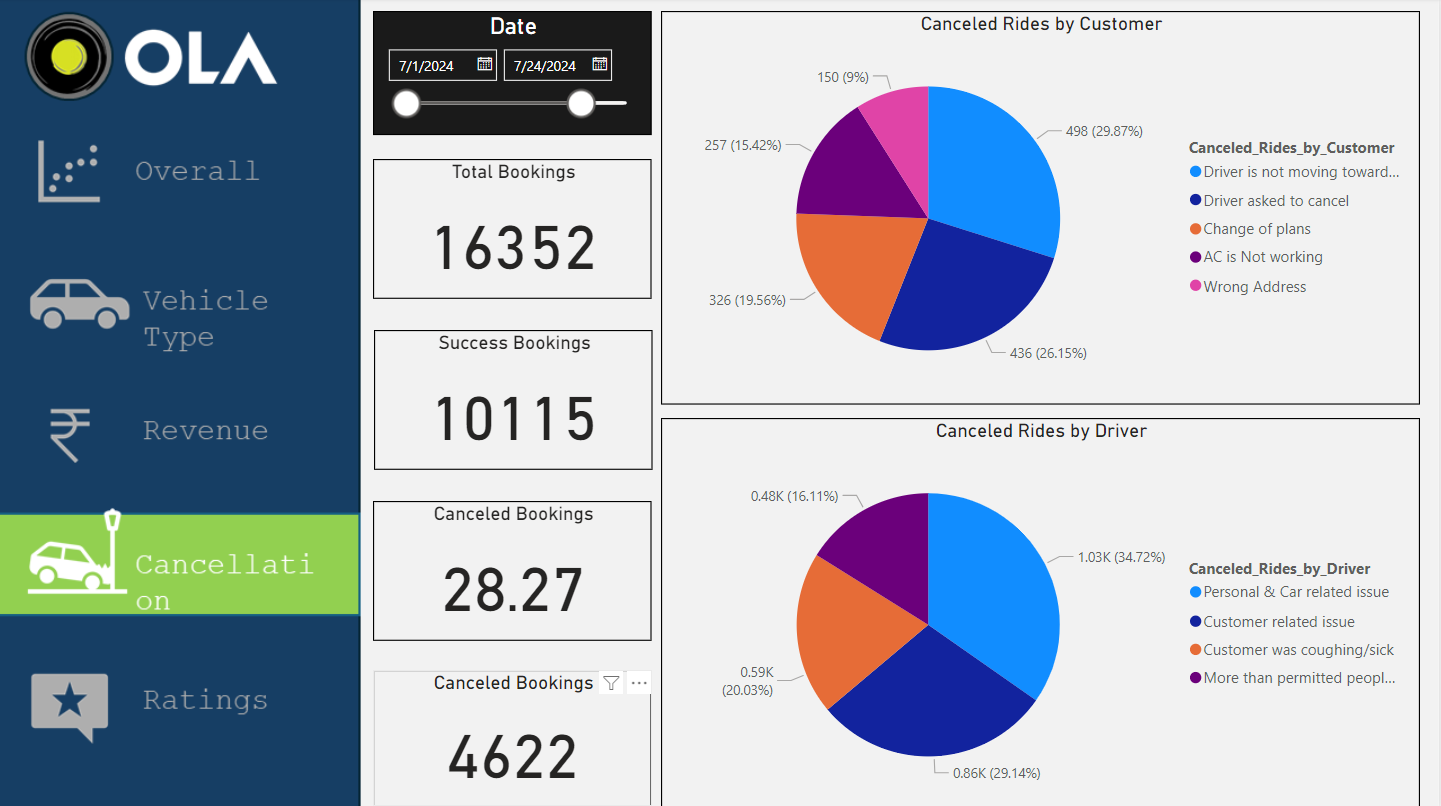

Layout of this report page (visuals, bound fields, positions):
{"tool":"powerbi","page":{"name":"CANCELLATION","canvas":[1280,720],"ordinal":4},"visuals":[{"type":"actionButton","box":[0,231.4,325.4,90.4],"z":0},{"type":"actionButton","box":[0,336.1,325.4,91.3],"z":1000},{"type":"actionButton","box":[0,447.8,325.4,107.3],"z":2000},{"type":"actionButton","box":[0,576.4,325.4,92.2],"z":3000},{"type":"actionButton","box":[0,110.8,325.4,93.1],"z":4000},{"type":"pieChart","title":"Canceled Rides by Customer","fields":{"Y":["CountNonNull(Bookings.Canceled_Rides_by_Customer)"],"Category":["Bookings.Canceled_Rides_by_Customer"]},"box":[590.6,11.3,672.9,348.8],"z":5000},{"type":"pieChart","title":"Canceled Rides by Driver","fields":{"Category":["Bookings.Canceled_Rides_by_Driver"],"Y":["CountNonNull(Bookings.Canceled_Rides_by_Driver)"]},"box":[590.6,372.5,672.9,347.8],"z":6000},{"type":"slicer","title":"Date","fields":{"Values":["Bookings.Date"]},"box":[335.4,11.3,246.9,110.1],"z":7000},{"type":"card","title":"Total Bookings","fields":{"Values":["Count(Bookings.Booking_ID)"]},"box":[334.9,142.9,247.5,123.7],"z":8000},{"type":"card","title":"Success Bookings","fields":{"Values":["Count(Bookings.Booking_ID)"]},"box":[336,294.4,247.5,123.7],"z":9000},{"type":"card","title":"Canceled Bookings","fields":{"Values":["Count(Bookings.Booking_ID)"]},"box":[334.9,596.3,247.5,120.5],"z":10000},{"type":"card","title":"Canceled Bookings","fields":{"Values":["Bookings.CANCELLED BOOKING PERCENTAGE"]},"box":[334.9,445.9,247.5,123.7],"z":11000}]}

Visuals, with their boxes on the page's 1280x720 design canvas (x1, y1, x2, y2). These are canvas units, not pixel positions in the 1441x806 screenshot, which may show the page scaled, cropped or inside an application window:
actionButton: crop(0, 231, 325, 322)
actionButton: crop(0, 336, 325, 427)
actionButton: crop(0, 448, 325, 555)
actionButton: crop(0, 576, 325, 669)
actionButton: crop(0, 111, 325, 204)
"Canceled Rides by Customer" pieChart: crop(591, 11, 1264, 360)
"Canceled Rides by Driver" pieChart: crop(591, 372, 1264, 720)
"Date" slicer: crop(335, 11, 582, 121)
"Total Bookings" card: crop(335, 143, 582, 267)
"Success Bookings" card: crop(336, 294, 584, 418)
"Canceled Bookings" card: crop(335, 596, 582, 717)
"Canceled Bookings" card: crop(335, 446, 582, 570)
